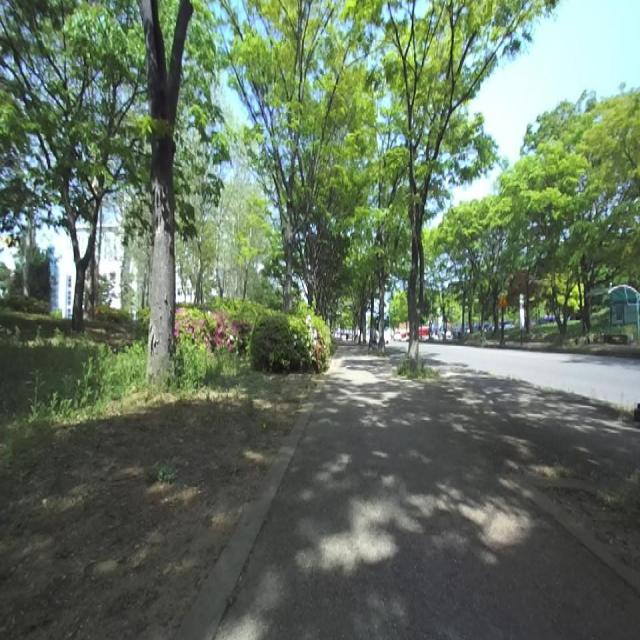sidewalk: (217, 344, 640, 639)
